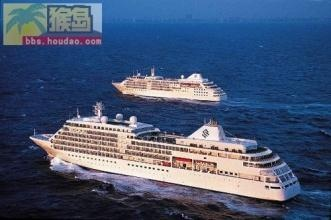youlun: (29, 101, 306, 200), (109, 71, 230, 103)
